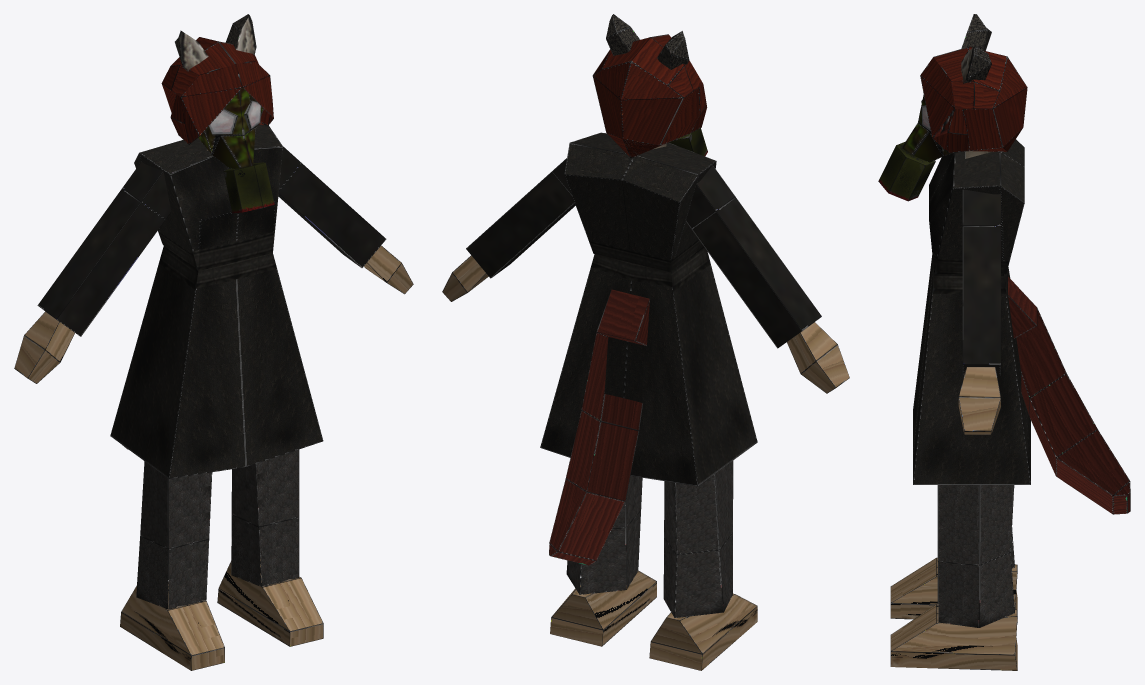
File: lunaNORIG.fbx
3 renders of one model, left to right at view 1: azimuth 30°, elevation 25°; view 2: azimuth 150°, elevation 25°; view 3: azimuth 270°, elevation 25°, orthographic. The views are drawn at different scales.
Visible parts, largest first — view 1: Torso; view 2: Torso; view 3: Torso.
Boxes of the visible parts, x1,y1,x2,y2 form: Torso: (14, 14, 413, 670); Torso: (442, 14, 849, 670); Torso: (878, 14, 1130, 670).
Bounding box in the file's own units: 143 × 213 × 80.66.
Materials: 1 (1 with a texture image).
